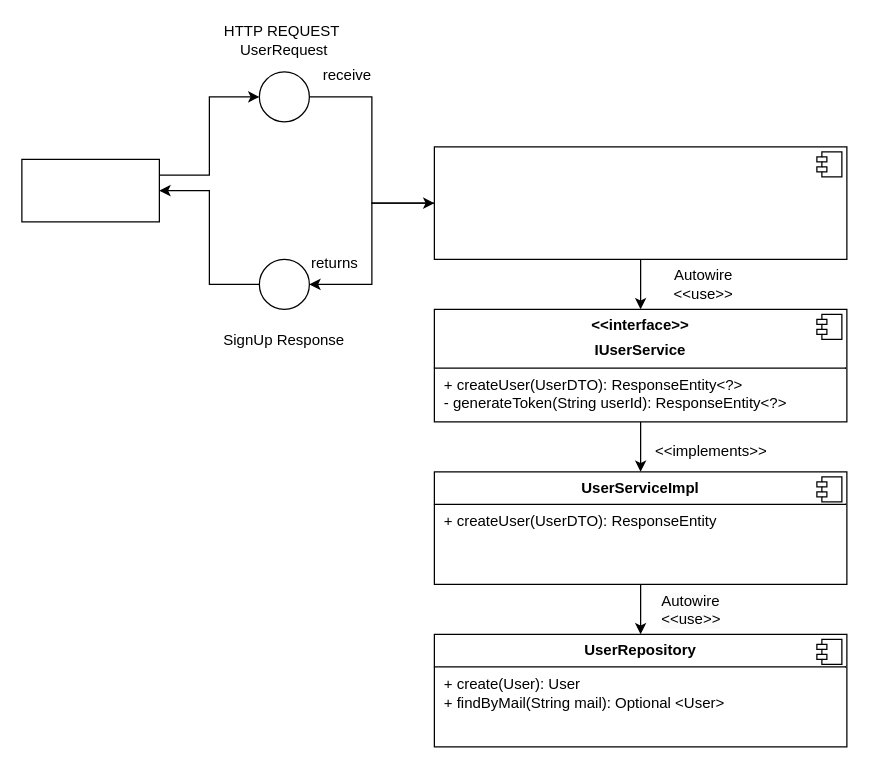
The diagram is 869 pixels wide and 769 high, and some of its shapes have lost their labels. Each missing label, with the centre of its shape:
"Browser/Postman" belongs at [90,190].
"UserController + createUser(UserDTO): ResponseEntity<?>" belongs at [640,202].
